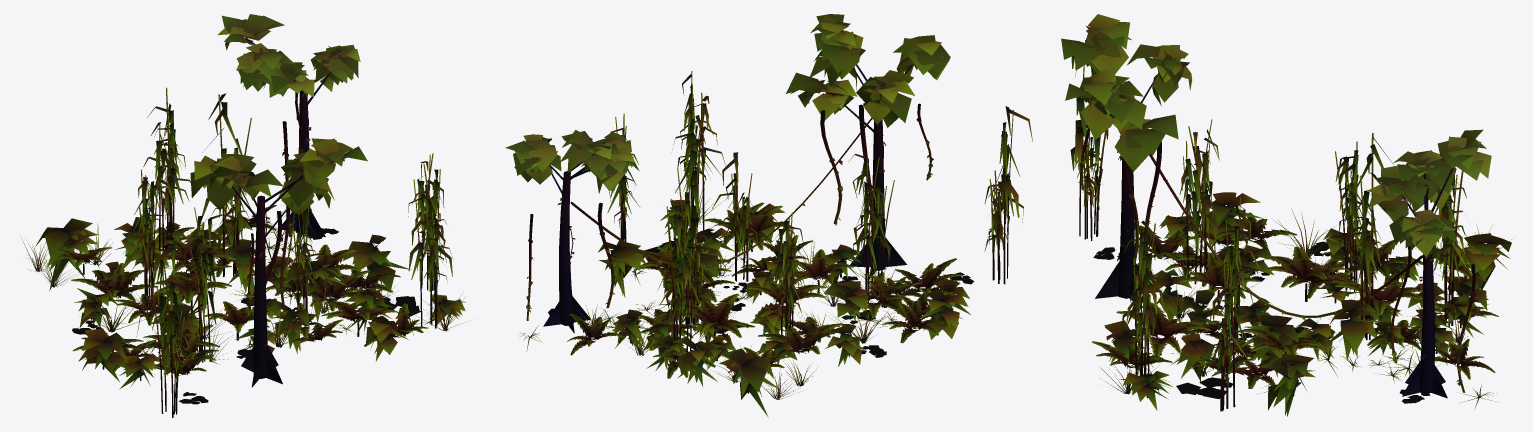
The model's file is patch_thicket.glb.
3 views of the same model, side by side, from view 1: azimuth 30°, elevation 25°; view 2: azimuth 150°, elevation 25°; view 3: azimuth 270°, elevation 25° (orthographic). The views are drawn at different scales.
Parts seen in each view (by area): view 1: patch_thicket; view 2: patch_thicket; view 3: patch_thicket.
Part boxes in pixels (x1=…): patch_thicket: x1=20, y1=14, x2=465, y2=417; patch_thicket: x1=505, y1=14, x2=1032, y2=417; patch_thicket: x1=1061, y1=14, x2=1515, y2=416.
Bounding box in the file's own units: 16.64 × 10.86 × 16.22.
1 material, 1 textured.
